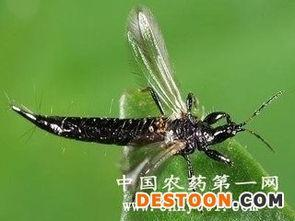tiny_pests: (0, 0, 295, 190)
